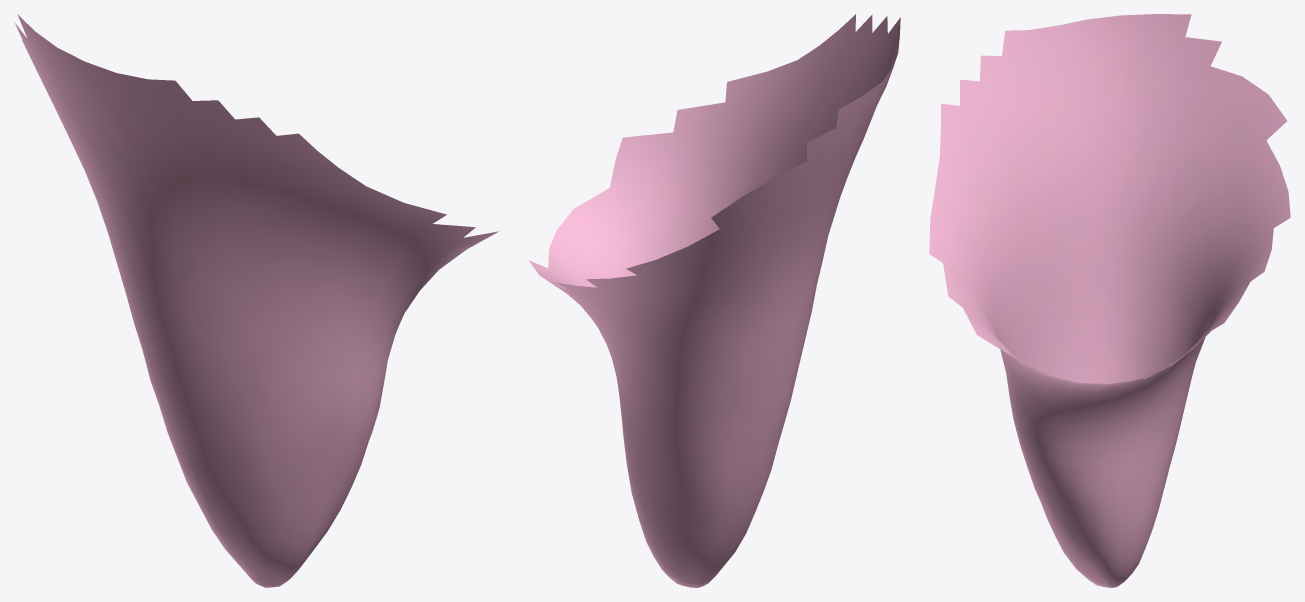
Rendered from Pato PDI.obj.
3 renders of one model, left to right at view 1: azimuth 30°, elevation 25°; view 2: azimuth 150°, elevation 25°; view 3: azimuth 270°, elevation 25°, orthographic. The views are drawn at different scales.
Visible parts, largest first — view 1: Pata_delantera_Izq; view 2: Pata_delantera_Izq; view 3: Pata_delantera_Izq.
Part boxes in pixels (x1,y1,x2,y2): Pata_delantera_Izq: (14, 14, 498, 587); Pata_delantera_Izq: (528, 14, 900, 587); Pata_delantera_Izq: (929, 14, 1290, 587).
Size of the model in its own units: 0.0335 by 0.0516 by 0.0343.
